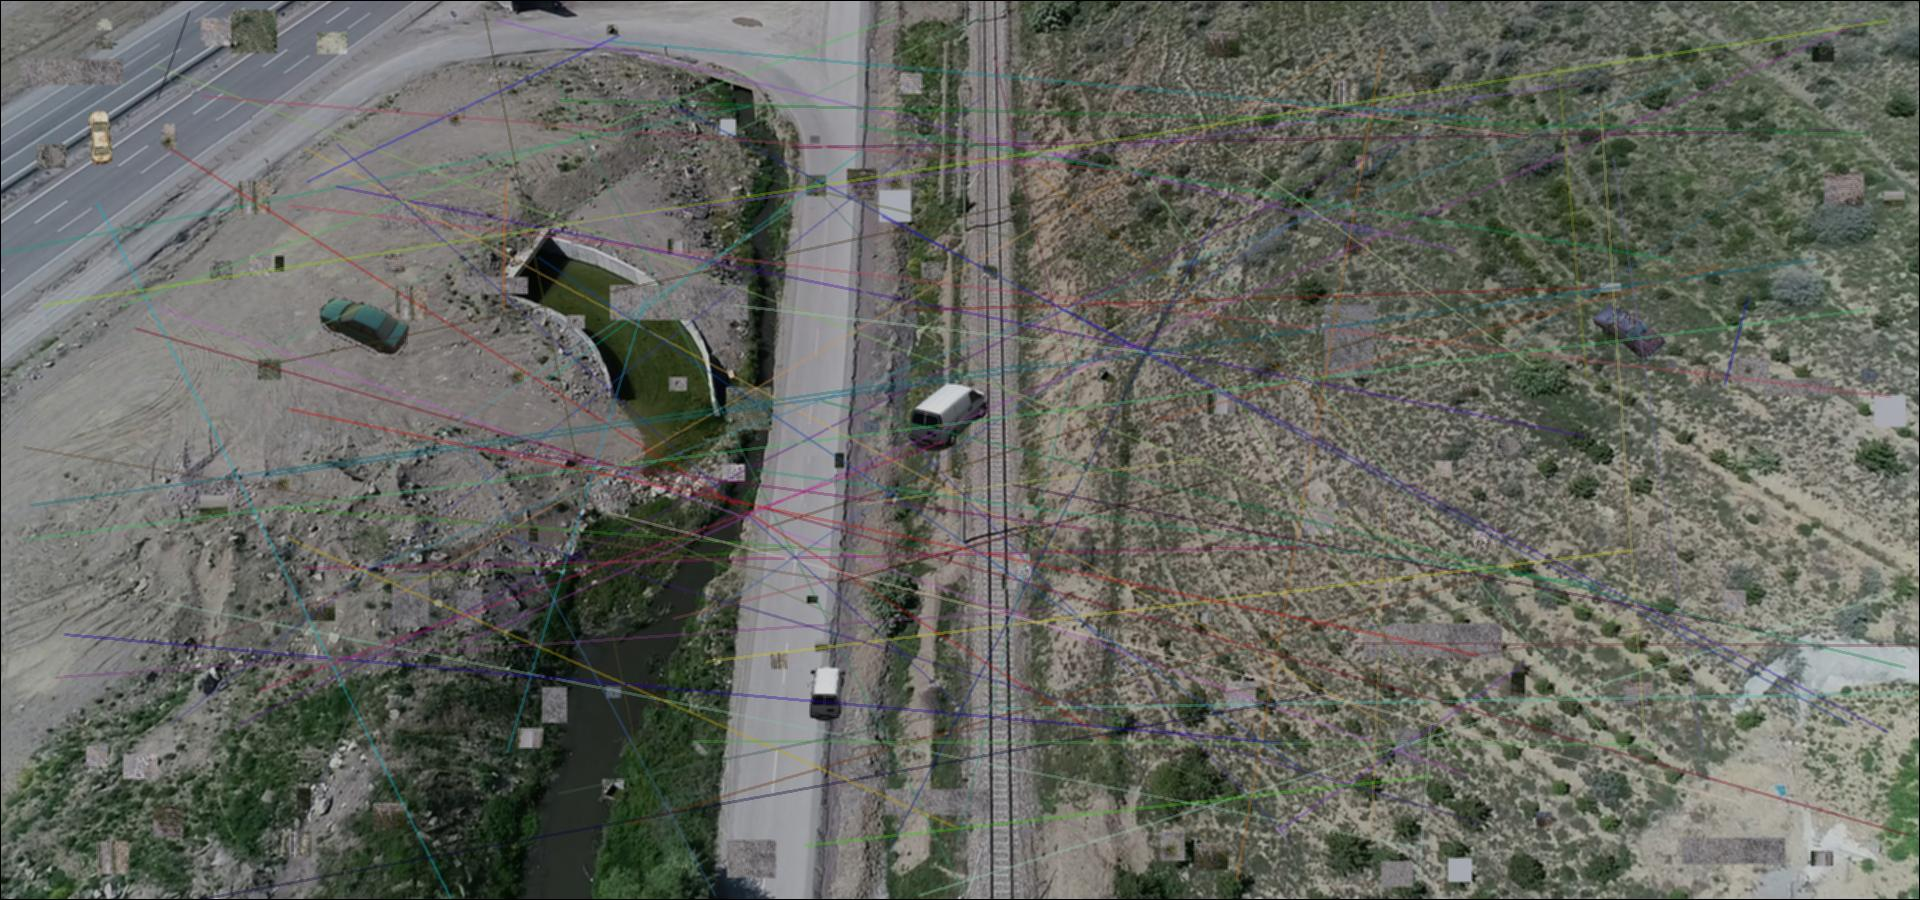arac: (317, 298, 409, 355), (910, 383, 988, 451), (1589, 302, 1667, 359), (808, 665, 845, 721), (88, 110, 113, 165)
